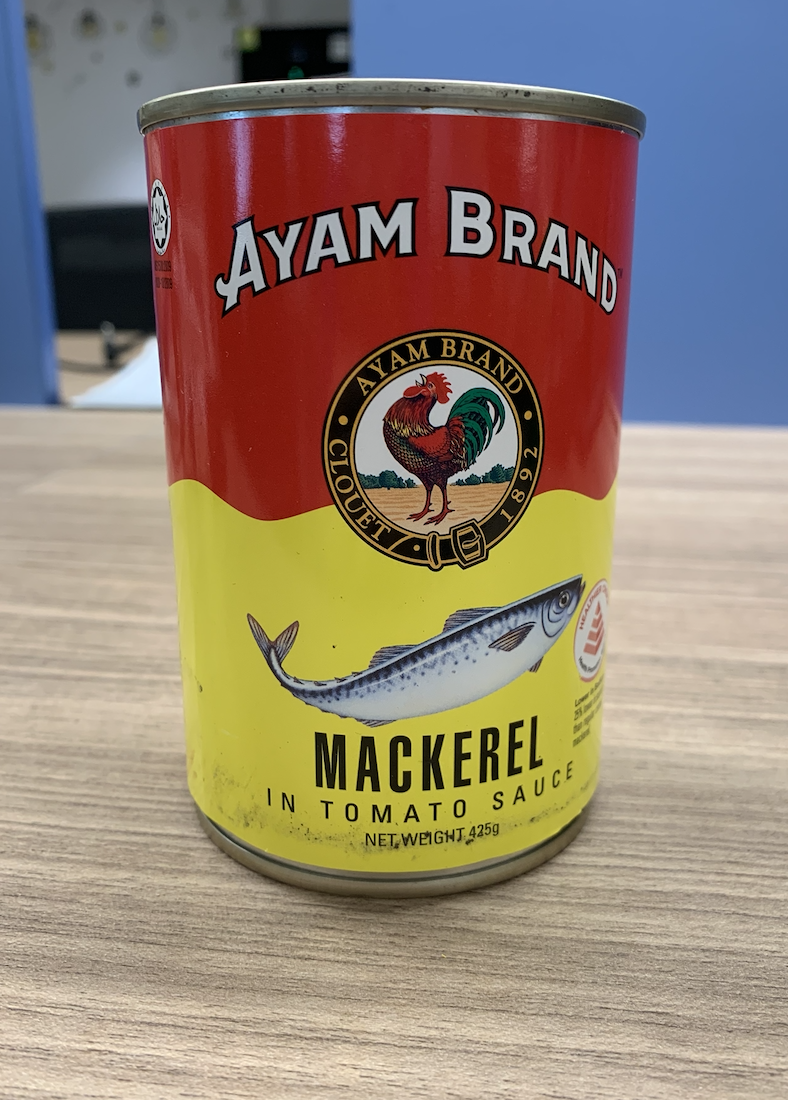sardines_450g: (172, 138, 607, 853)
